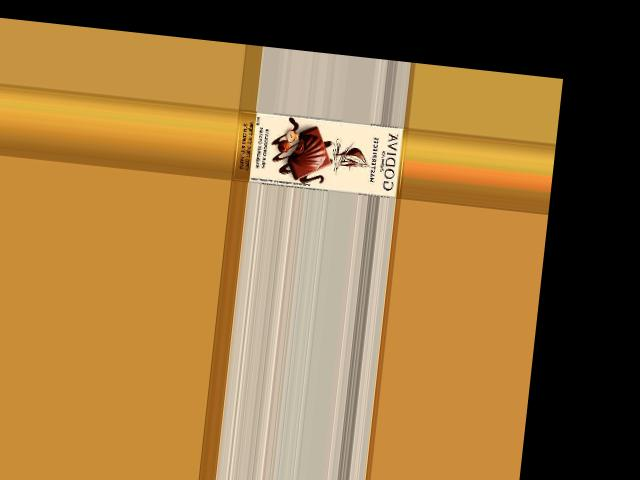chocolate: (232, 109, 408, 197)
